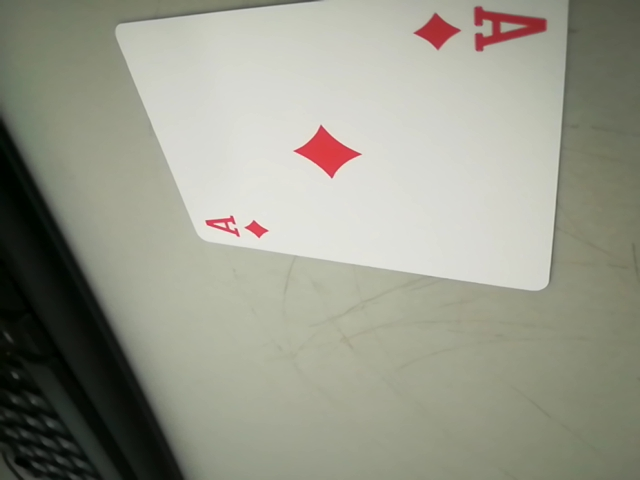fk a: (412, 2, 548, 56), (199, 206, 278, 244)
